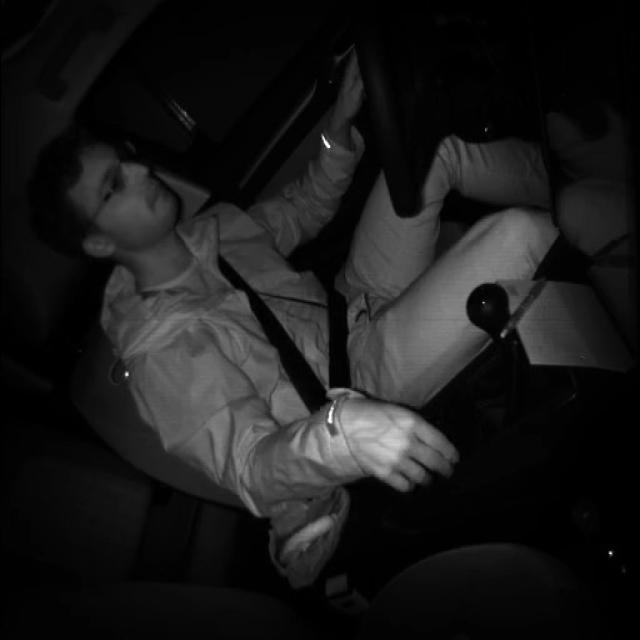pen: (497, 273, 550, 340)
